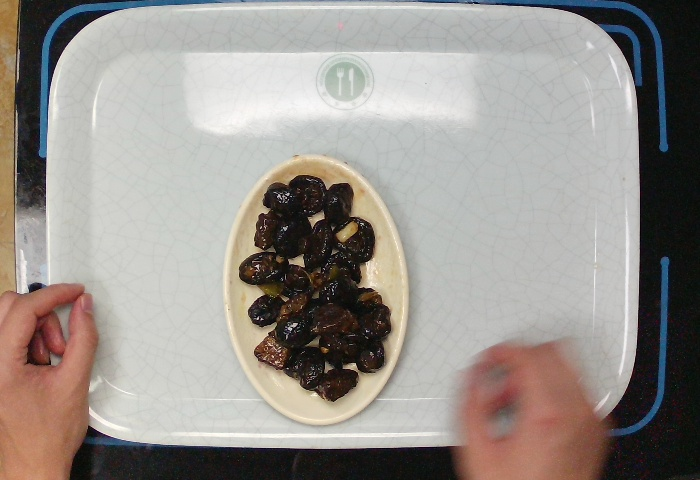JYsf-Tuo_Yuan_Wan: (220, 152, 411, 428)
